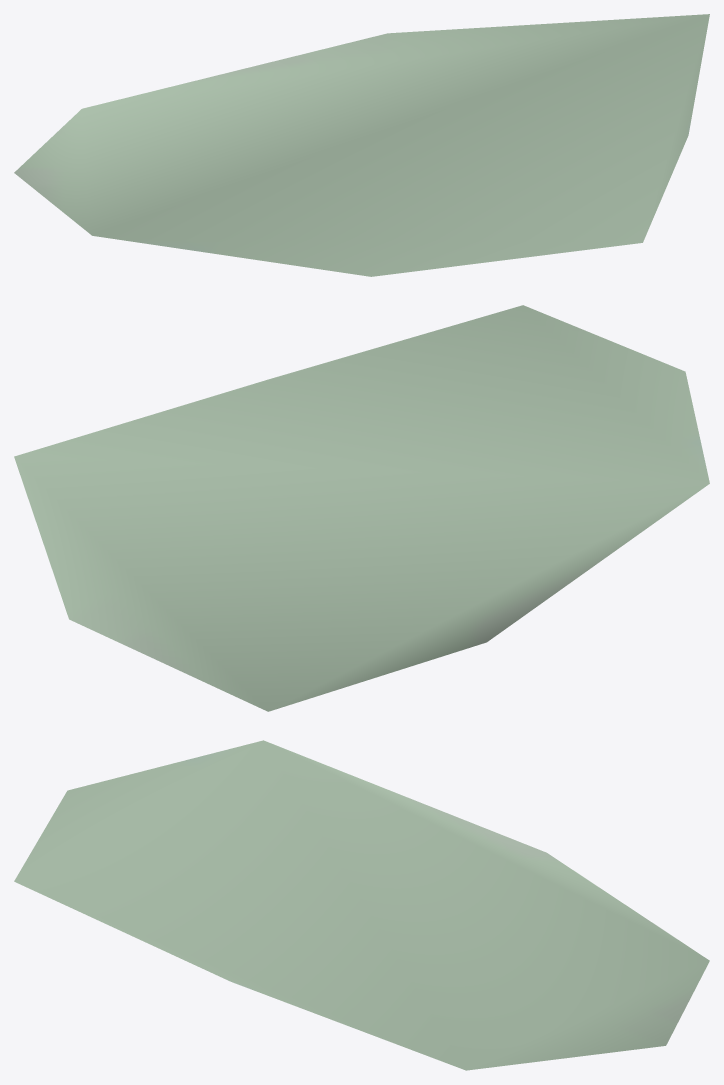
Rendered from TROLLHOLE02_HOLECAP184.fbx.
3 views of the same model, one above another, from view 1: azimuth 30°, elevation 25°; view 2: azimuth 150°, elevation 25°; view 3: azimuth 270°, elevation 25° (orthographic). The views are drawn at different scales.
Parts seen in each view (by area): view 1: TROLLHOLE02_HOLECAP184; view 2: TROLLHOLE02_HOLECAP184; view 3: TROLLHOLE02_HOLECAP184.
Boxes of the visible parts, <box> form: TROLLHOLE02_HOLECAP184: <box>14,14,709,276</box>; TROLLHOLE02_HOLECAP184: <box>14,305,709,711</box>; TROLLHOLE02_HOLECAP184: <box>14,740,709,1070</box>.
Size of the model in its own units: 33137 by 6752 by 33900.
Materials: 1 (1 with a texture image).
